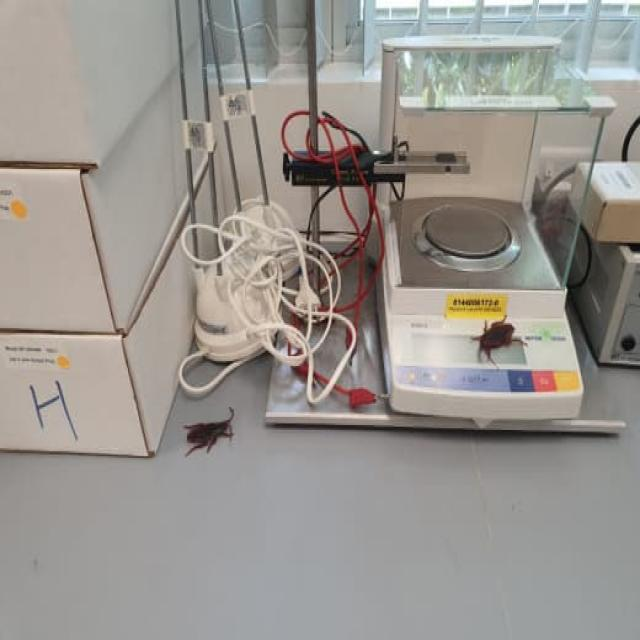Cockroach: (466, 312, 528, 369), (180, 405, 236, 466)
